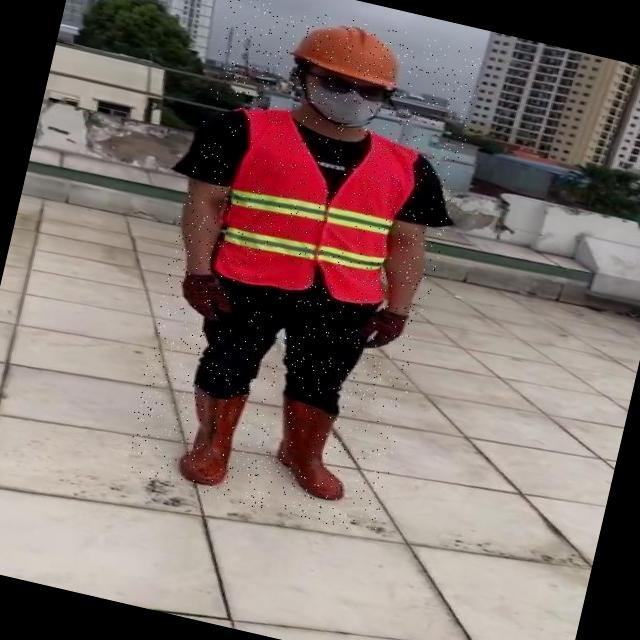boots: (264, 395, 360, 504), (171, 381, 253, 490)
gloves: (356, 303, 416, 357), (177, 269, 233, 323)
helmet: (280, 8, 416, 96)
vest: (210, 104, 420, 314)
